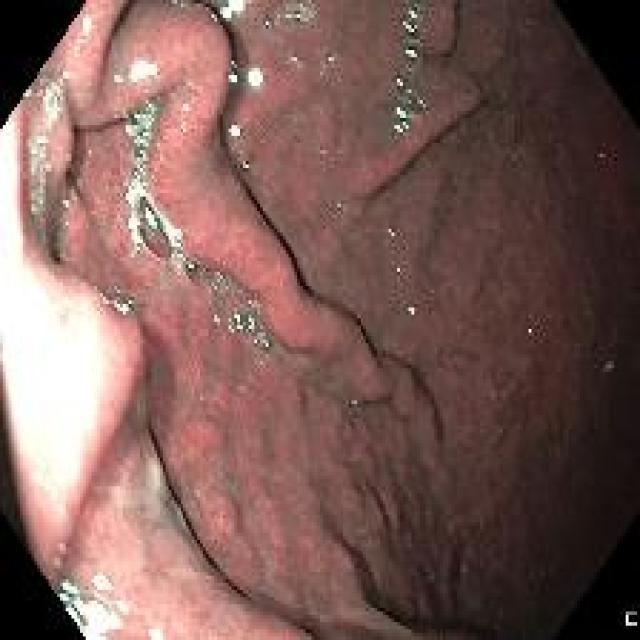bubbles: (46, 178, 101, 281), (27, 84, 63, 227), (224, 302, 279, 356), (129, 94, 159, 185), (138, 195, 172, 266), (183, 254, 209, 293), (209, 270, 233, 296), (288, 3, 311, 28), (379, 221, 397, 241), (346, 392, 362, 413), (333, 197, 347, 218), (238, 158, 252, 177), (321, 52, 335, 68), (317, 142, 329, 159), (261, 16, 272, 33)
contrast: (513, 394, 637, 633)
saturation: (0, 111, 111, 527)
specularity: (57, 571, 129, 639), (231, 307, 277, 354), (124, 181, 142, 258), (99, 289, 134, 319), (219, 0, 251, 26), (126, 60, 160, 83), (393, 103, 413, 133), (172, 226, 184, 274), (142, 204, 159, 230), (246, 66, 264, 90), (399, 18, 418, 39), (403, 44, 420, 61), (227, 123, 243, 141), (404, 301, 419, 320), (145, 625, 164, 639), (406, 5, 421, 21), (72, 36, 83, 57), (82, 15, 93, 35), (178, 101, 192, 116), (60, 197, 74, 210), (111, 70, 123, 85), (227, 70, 238, 85), (393, 77, 406, 88), (60, 68, 71, 81), (186, 259, 195, 271), (241, 160, 249, 169), (291, 55, 298, 64)
